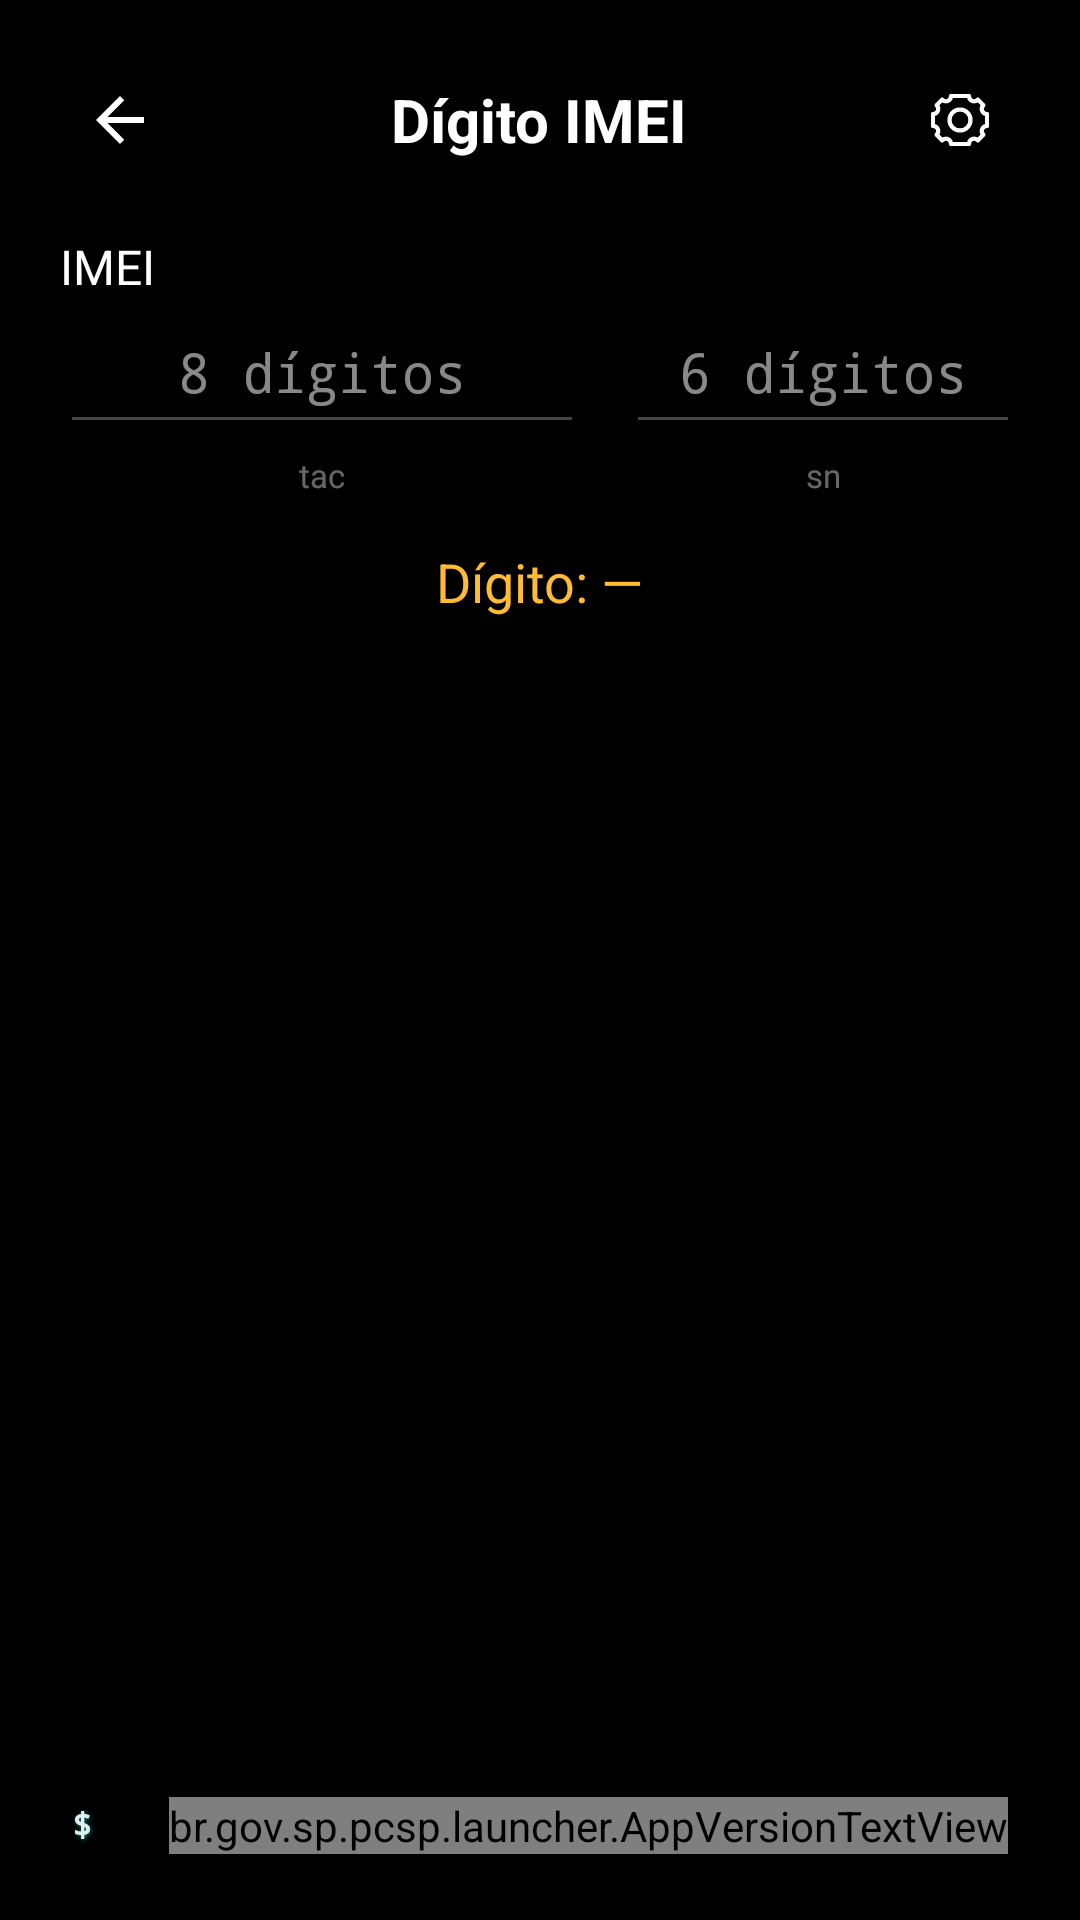

Where to tap for icons on this 1080 x 1920 app screen, as [x,y]:
Voltar: [120,120]
